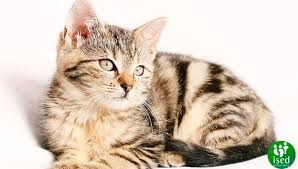Gato: (46, 1, 243, 155)
